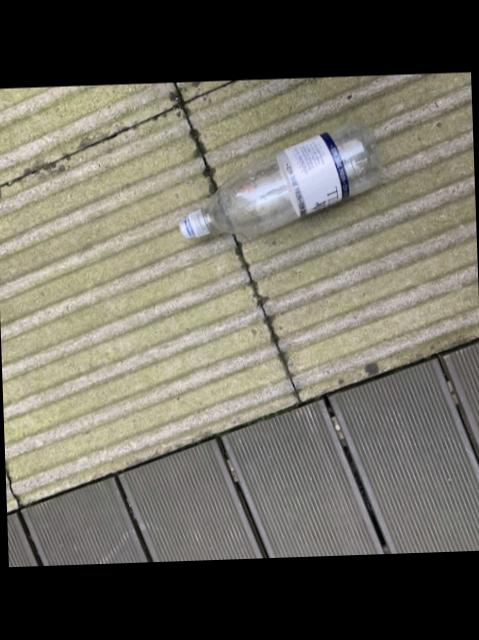plastic: (179, 122, 382, 236)
